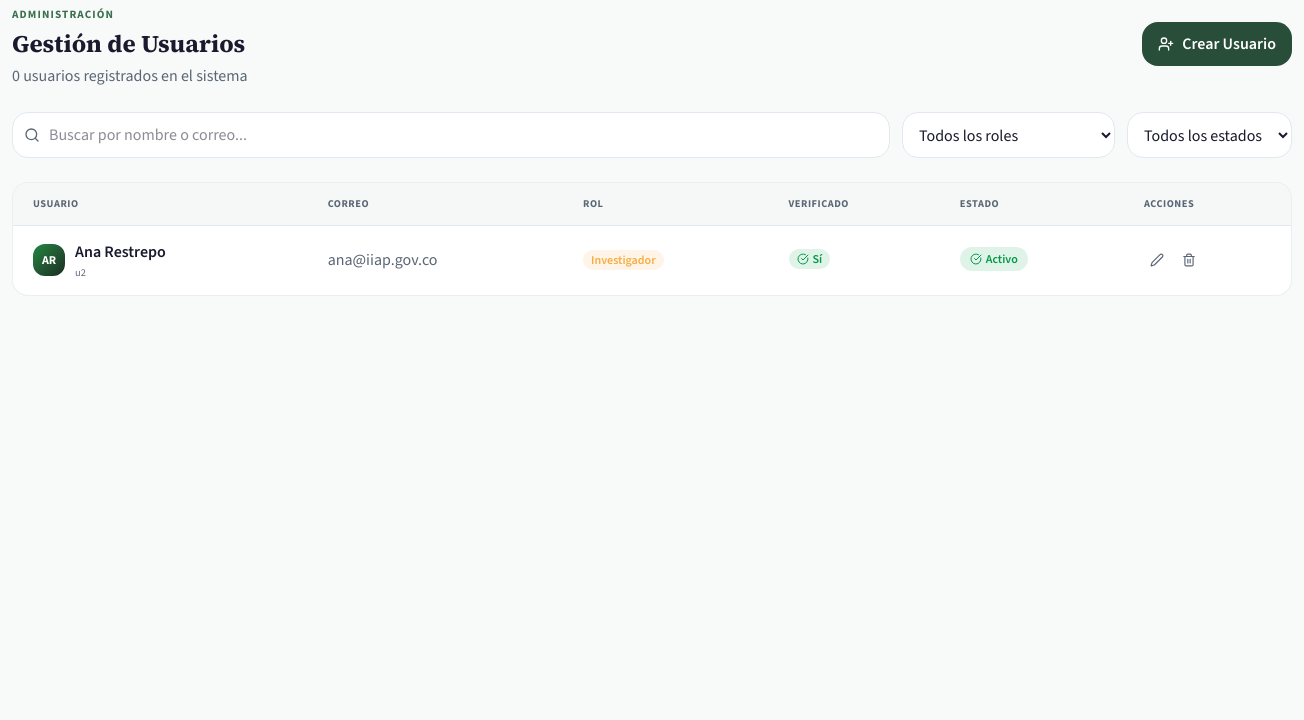
Test: Usuarios (admin) — activar/desactivar › si falla el cambio de estado, muestra un toast de error
Step 1. Click the button titled "Clic para desactivar" → (994, 259), box [960, 247, 1028, 271]
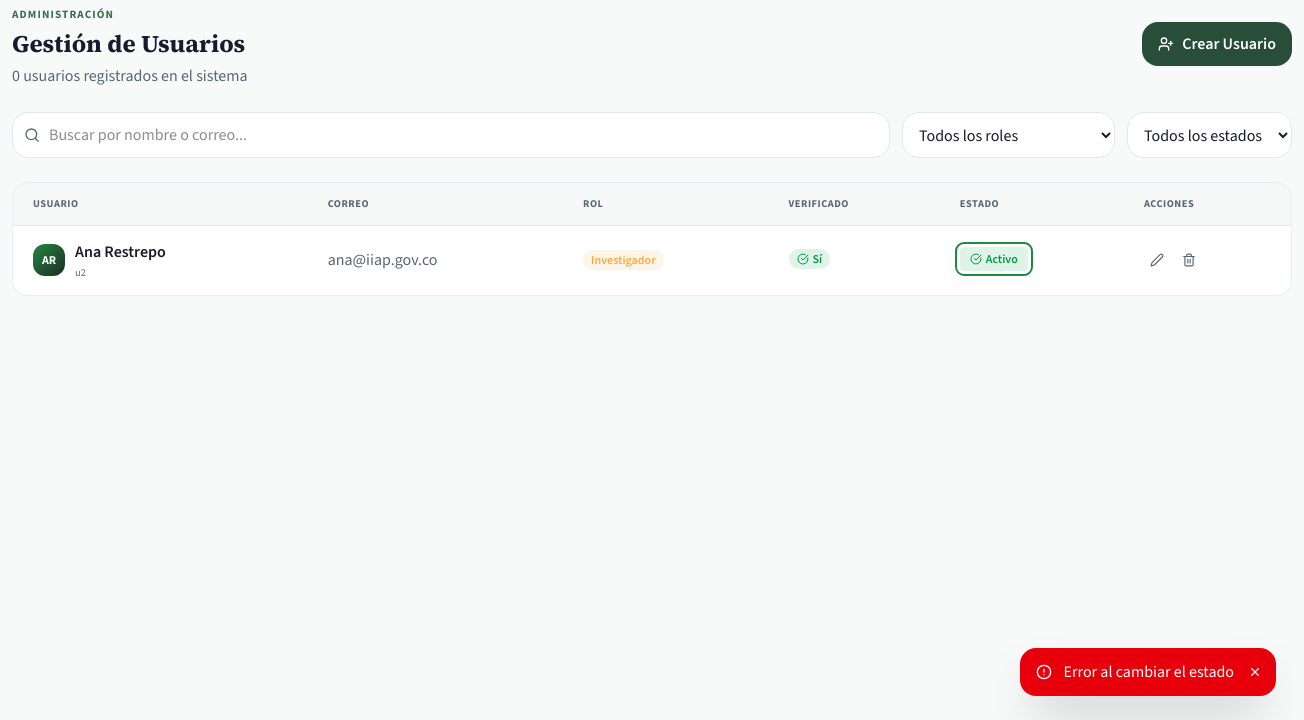
Expected: the text "Error al cambiar el estado" is shown, [1064, 660, 1234, 684]
